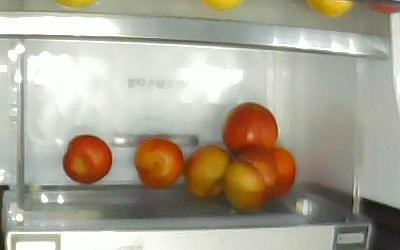prune: (224, 148, 276, 212), (223, 103, 280, 154), (63, 134, 114, 185), (184, 145, 231, 198), (133, 139, 183, 188), (260, 148, 297, 198)
